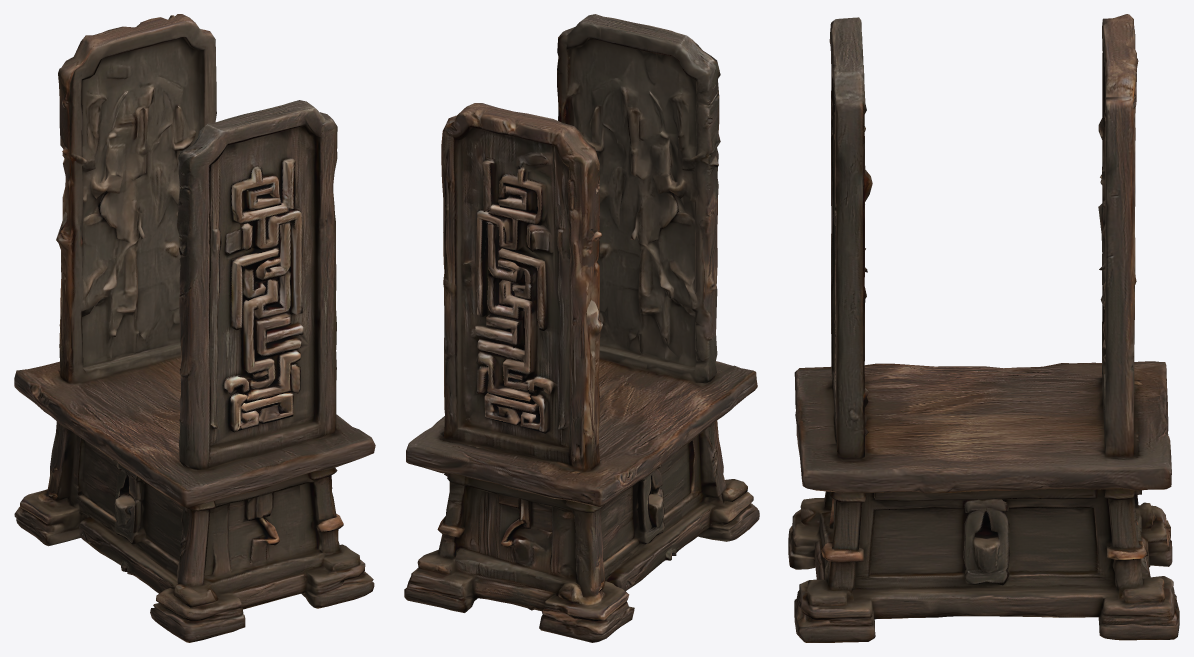
Rendered from theme-ritual-tablet-v05.glb.
The picture shows the model from 3 angles, left to right: view 1: azimuth 30°, elevation 25°; view 2: azimuth 150°, elevation 25°; view 3: azimuth 270°, elevation 25°; orthographic projection. The views are drawn at different scales.
Visible parts, largest first — view 1: tripo_node_822875d1-26f7-43e2-bc88-a39c1c279280; view 2: tripo_node_822875d1-26f7-43e2-bc88-a39c1c279280; view 3: tripo_node_822875d1-26f7-43e2-bc88-a39c1c279280.
Boxes of the visible parts, box(x1,y1,x2,y2) form: tripo_node_822875d1-26f7-43e2-bc88-a39c1c279280: box(14, 14, 375, 642); tripo_node_822875d1-26f7-43e2-bc88-a39c1c279280: box(404, 14, 759, 642); tripo_node_822875d1-26f7-43e2-bc88-a39c1c279280: box(788, 14, 1179, 642).
Bounding box in the file's own units: 0.2822 × 0.65 × 0.4181.
Materials: 1 (1 with a texture image).
